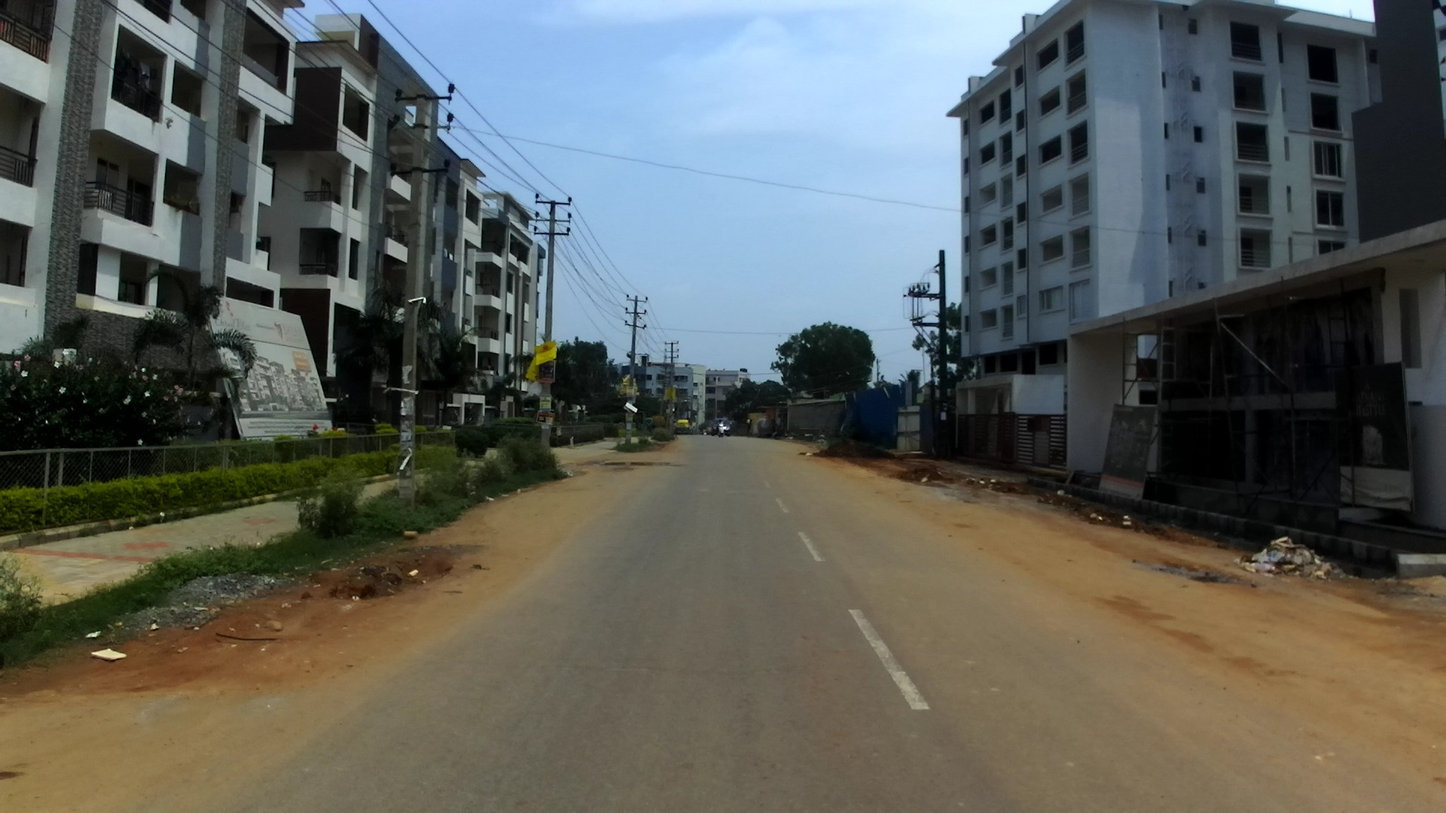autorickshaw: (675, 419, 691, 434)
car: (712, 419, 733, 436), (706, 421, 712, 436)
motorcycle: (717, 424, 726, 438)
person: (744, 418, 753, 437)
rider: (718, 418, 723, 428)
vehicle fallback: (757, 419, 773, 437)
